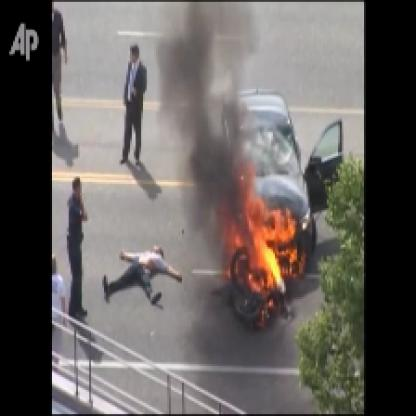Fire: (217, 158, 301, 306)
Smoke: (156, 2, 253, 251)
